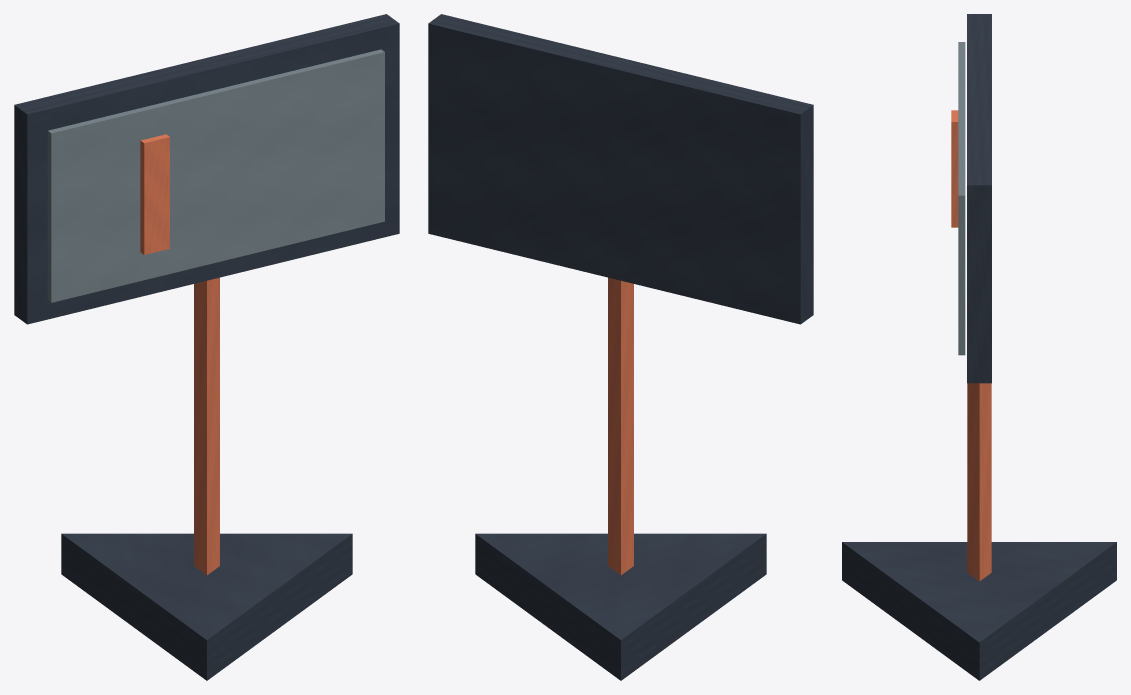
File: atlas100-s023-a11.lod2.glb
3 renders of one model, left to right at view 1: azimuth 30°, elevation 25°; view 2: azimuth 150°, elevation 25°; view 3: azimuth 270°, elevation 25°, orthographic. The views are drawn at different scales.
Visible parts, largest first — view 1: atlas100-s023-a11:part-003, atlas100-s023-a11:part-002, atlas100-s023-a11:part-000, atlas100-s023-a11:part-001, atlas100-s023-a11:part-004; view 2: atlas100-s023-a11:part-002, atlas100-s023-a11:part-000, atlas100-s023-a11:part-001; view 3: atlas100-s023-a11:part-000, atlas100-s023-a11:part-002, atlas100-s023-a11:part-001, atlas100-s023-a11:part-003, atlas100-s023-a11:part-004.
Boxes of the visible parts, x1,y1,x2,y2 form: atlas100-s023-a11:part-003: (47,49,384,302); atlas100-s023-a11:part-002: (14,14,399,324); atlas100-s023-a11:part-000: (61,533,352,680); atlas100-s023-a11:part-001: (194,277,219,575); atlas100-s023-a11:part-004: (140,134,169,254); atlas100-s023-a11:part-002: (428,14,813,324); atlas100-s023-a11:part-000: (475,533,766,680); atlas100-s023-a11:part-001: (608,277,633,575); atlas100-s023-a11:part-000: (842,542,1116,680); atlas100-s023-a11:part-002: (967,14,991,383); atlas100-s023-a11:part-001: (967,383,991,581); atlas100-s023-a11:part-003: (958,42,965,355); atlas100-s023-a11:part-004: (951,110,958,227).
Size of the model in its own units: 1.15 by 1.61 by 0.7794.
Materials: 3 (3 with a texture image).
